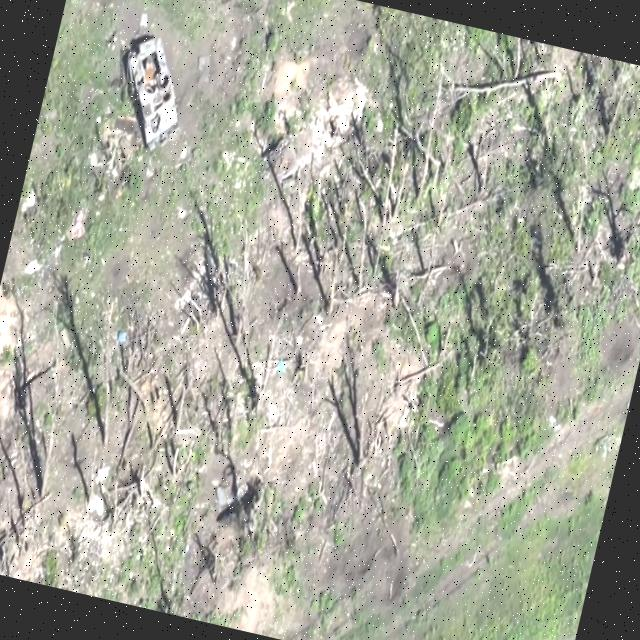Destroyed: (109, 24, 199, 152)
